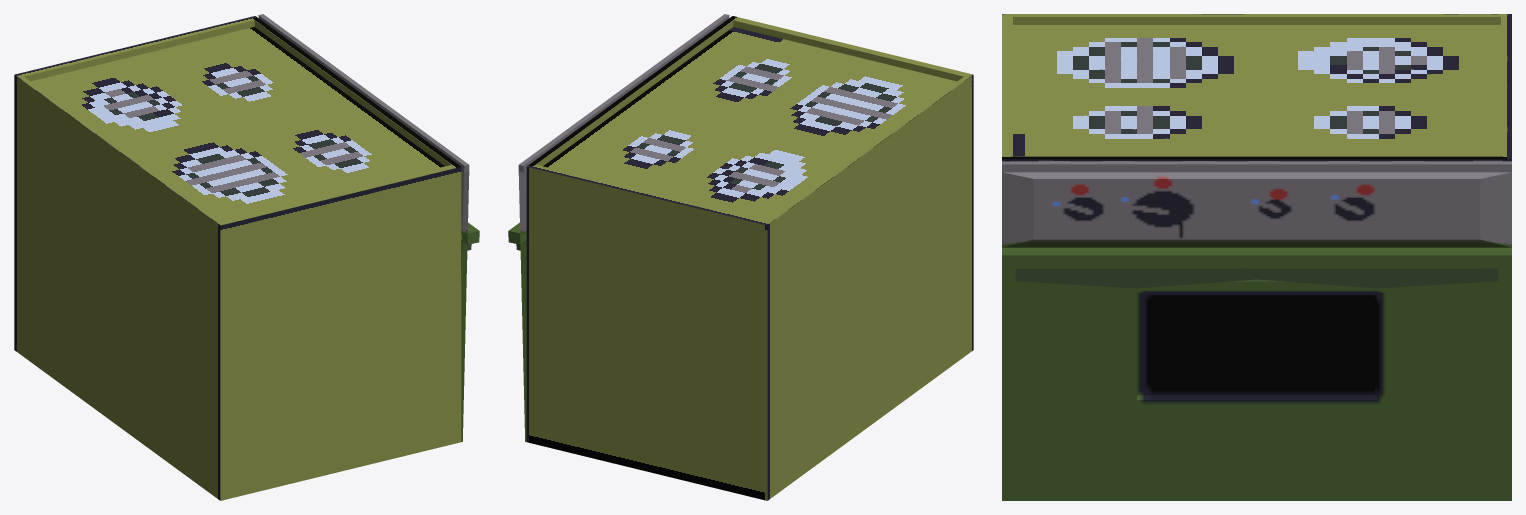
File: oven.glb
3 views of the same model, side by side, from view 1: azimuth 30°, elevation 25°; view 2: azimuth 150°, elevation 25°; view 3: azimuth 270°, elevation 25° (orthographic). The views are drawn at different scales.
Visible parts, largest first — view 1: container, door; view 2: container, door; view 3: door, container.
Part boxes in pixels (left/top/right/bottom): container: left=14, top=16, right=461, bottom=500; door: left=258, top=14, right=479, bottom=441; container: left=526, top=16, right=973, bottom=500; door: left=508, top=14, right=729, bottom=441; door: left=1002, top=161, right=1511, bottom=500; container: left=1002, top=14, right=1511, bottom=161.
Bounding box in the file's own units: 2.46 × 2.5 × 3.39.
3 materials, 3 textured.
